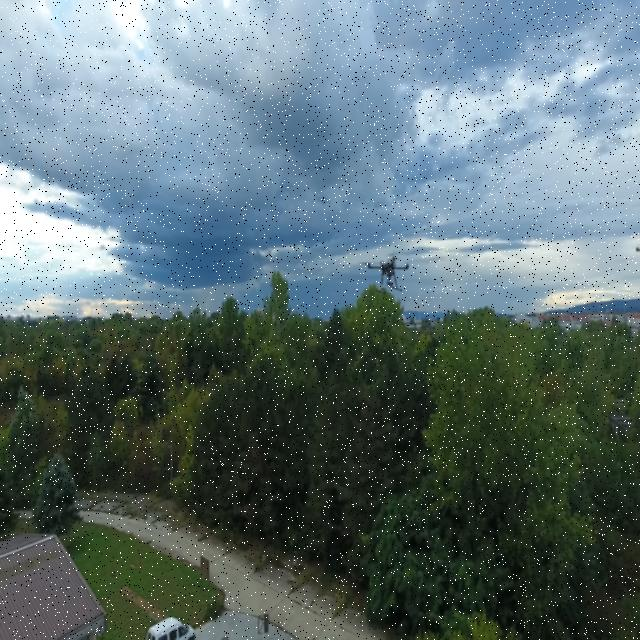UAV: (358, 252, 413, 298)
